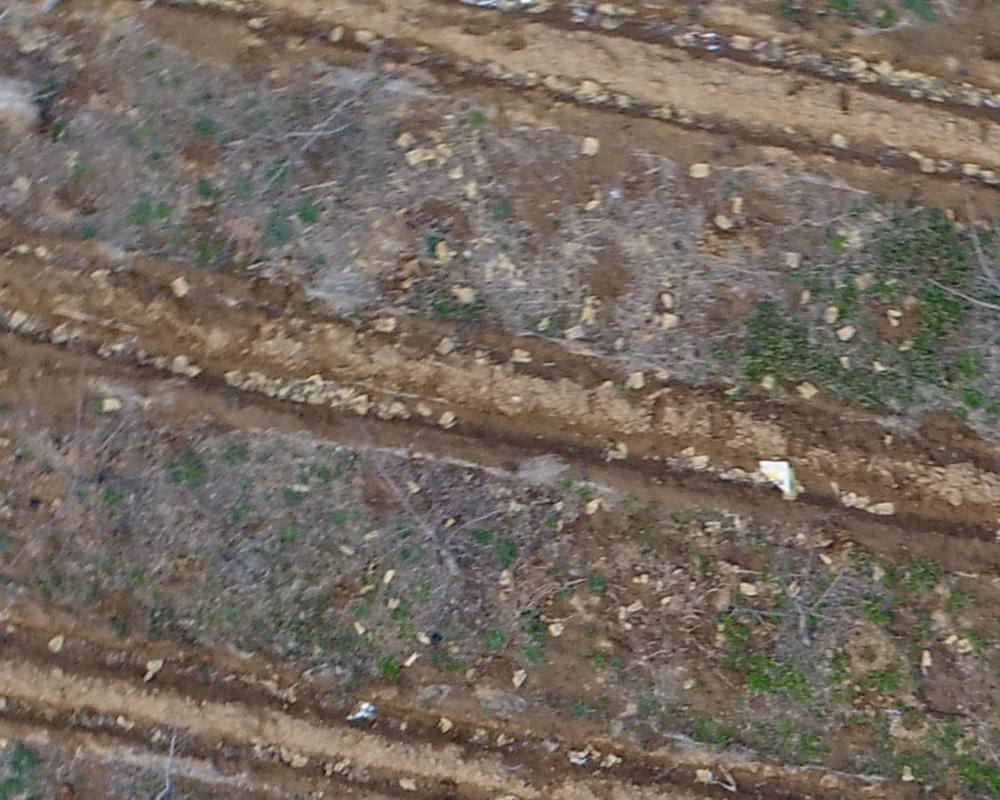apple: (341, 450, 514, 596), (199, 70, 360, 195), (733, 538, 864, 669)
